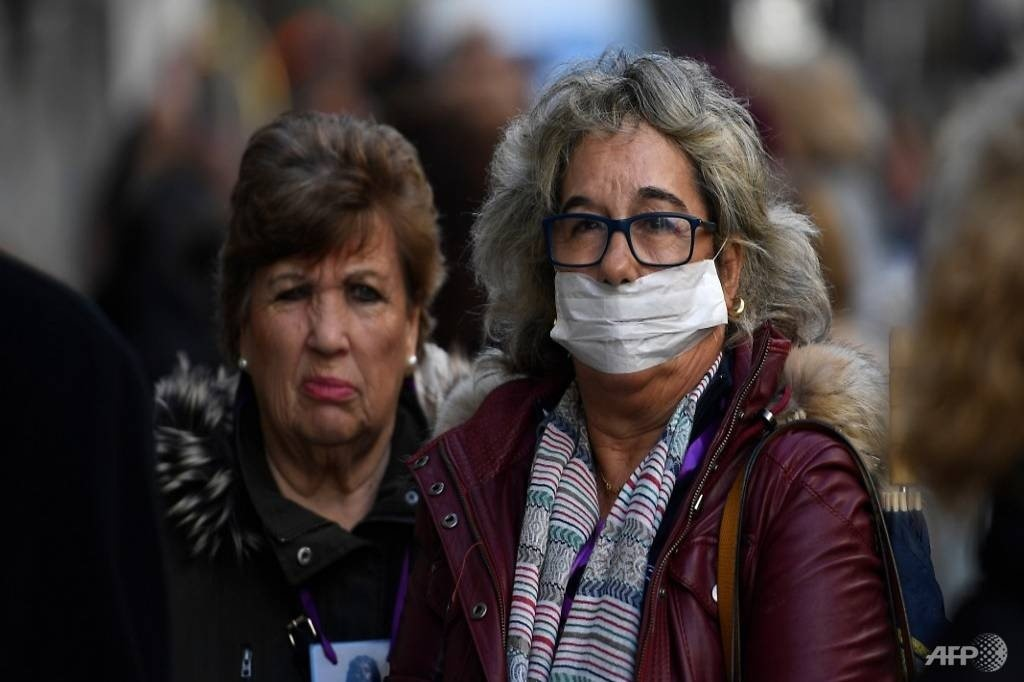face_no_mask: (238, 106, 443, 473)
face_with_mask: (523, 62, 780, 392)
